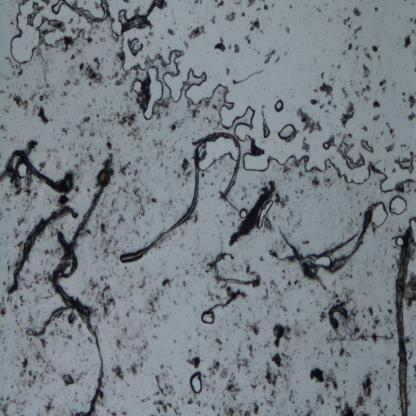Air bubble: (240, 135, 416, 195), (10, 0, 45, 66), (150, 48, 181, 106), (198, 135, 238, 172), (177, 66, 208, 104), (35, 17, 66, 51), (145, 66, 164, 121), (228, 106, 255, 134), (205, 84, 234, 108), (75, 0, 105, 19), (371, 200, 389, 229), (256, 200, 272, 229), (397, 150, 416, 170), (389, 195, 408, 215), (190, 371, 203, 395), (345, 156, 366, 170), (277, 124, 295, 140), (314, 255, 333, 269), (360, 138, 374, 154), (262, 115, 271, 139), (201, 311, 215, 325), (410, 216, 416, 248), (52, 1, 64, 16), (18, 162, 28, 179), (118, 8, 128, 24), (132, 78, 142, 93), (274, 99, 284, 112), (395, 235, 405, 248), (240, 208, 247, 220), (322, 141, 330, 150)
Background material: (228, 179, 277, 248), (56, 229, 79, 279), (326, 331, 396, 343), (296, 106, 324, 135), (79, 57, 105, 88), (309, 366, 339, 392), (129, 342, 150, 378), (154, 364, 176, 397), (142, 289, 165, 316), (0, 392, 27, 415), (131, 188, 147, 226), (347, 291, 361, 333), (101, 284, 116, 322), (339, 99, 357, 130), (270, 278, 286, 312), (96, 234, 116, 261), (25, 0, 44, 28), (272, 323, 293, 348), (360, 371, 376, 402), (328, 280, 347, 306), (338, 132, 356, 158), (334, 394, 355, 416), (82, 277, 100, 302), (402, 276, 416, 308), (140, 72, 151, 112), (226, 373, 242, 400), (96, 109, 118, 128), (234, 346, 250, 372), (364, 307, 380, 332), (270, 349, 291, 368), (178, 157, 191, 186), (152, 135, 166, 161), (248, 17, 267, 36), (265, 362, 278, 389), (118, 112, 138, 129), (128, 37, 144, 58), (198, 250, 214, 270), (104, 140, 115, 168), (44, 244, 63, 260), (33, 270, 52, 286), (276, 369, 290, 390), (206, 358, 220, 379), (188, 26, 206, 42), (13, 94, 29, 112), (73, 154, 86, 176), (111, 363, 126, 382), (292, 319, 307, 338), (10, 178, 24, 198), (152, 399, 172, 413), (18, 356, 29, 381), (374, 394, 387, 415), (354, 84, 372, 99), (384, 304, 396, 326), (186, 354, 201, 371), (128, 127, 143, 144), (186, 100, 200, 118), (266, 387, 278, 407), (275, 193, 291, 208), (62, 36, 75, 54), (34, 372, 47, 390), (73, 367, 86, 385), (96, 168, 109, 186), (24, 139, 38, 155), (115, 71, 129, 87), (169, 118, 185, 132), (235, 402, 252, 415), (213, 35, 226, 52), (37, 106, 48, 126), (285, 278, 303, 290), (288, 387, 298, 408), (220, 401, 235, 415), (246, 321, 261, 335), (385, 120, 396, 139), (7, 295, 18, 314), (354, 394, 367, 410), (120, 160, 131, 178), (19, 276, 33, 290), (66, 62, 80, 76), (43, 359, 56, 374), (320, 80, 332, 96), (44, 395, 54, 414), (0, 291, 7, 318), (62, 372, 74, 387), (313, 345, 325, 360), (25, 174, 33, 196), (110, 197, 119, 216), (265, 215, 275, 232), (301, 136, 311, 153), (12, 63, 24, 77), (264, 49, 276, 63), (118, 290, 132, 302), (340, 271, 354, 283), (114, 338, 126, 352), (201, 382, 216, 393), (306, 397, 315, 415), (250, 400, 260, 416), (363, 45, 373, 61), (339, 345, 352, 357), (161, 276, 174, 288), (121, 90, 134, 102), (34, 350, 45, 364), (324, 176, 335, 190), (28, 371, 37, 388), (403, 32, 412, 49), (407, 92, 416, 109), (98, 223, 108, 238), (76, 124, 86, 139), (361, 64, 370, 80), (353, 25, 362, 41), (226, 12, 238, 24), (249, 378, 261, 390), (345, 41, 355, 55), (42, 68, 49, 88), (220, 366, 230, 380), (316, 392, 326, 406), (343, 16, 353, 30), (260, 287, 270, 301), (68, 312, 79, 324), (147, 193, 158, 205), (106, 71, 119, 81), (396, 183, 406, 196), (118, 214, 127, 228), (40, 92, 51, 103), (81, 227, 92, 238), (137, 154, 147, 166), (379, 78, 387, 93), (184, 395, 194, 407), (386, 141, 396, 153), (172, 402, 182, 414), (14, 216, 26, 226), (80, 114, 90, 126), (352, 7, 362, 19), (247, 342, 254, 359), (341, 86, 349, 100), (312, 175, 320, 189), (86, 153, 96, 164), (9, 316, 20, 326), (196, 400, 207, 410), (128, 228, 140, 237), (38, 160, 47, 172), (139, 275, 146, 290), (27, 311, 34, 326), (282, 165, 292, 175), (309, 97, 319, 107), (27, 337, 36, 348), (74, 46, 83, 57), (319, 310, 327, 322), (373, 112, 381, 124), (117, 50, 125, 62), (72, 76, 80, 88), (297, 168, 305, 180), (246, 0, 255, 10), (181, 41, 190, 51), (215, 336, 224, 346), (214, 1, 224, 10), (40, 338, 48, 349), (362, 269, 373, 277), (95, 145, 103, 156), (86, 34, 94, 45), (244, 32, 252, 43), (2, 105, 10, 116), (404, 334, 412, 345), (230, 320, 241, 328), (30, 90, 37, 102), (111, 31, 118, 43), (193, 211, 199, 225), (16, 238, 23, 250), (407, 111, 416, 120), (141, 396, 150, 405), (86, 334, 94, 344), (373, 99, 381, 109), (166, 28, 176, 36), (19, 294, 25, 307), (401, 91, 407, 104), (361, 123, 368, 134), (121, 326, 128, 337), (145, 33, 151, 45), (99, 390, 105, 402), (258, 253, 265, 263), (184, 266, 191, 276), (385, 358, 392, 368), (89, 130, 96, 140), (0, 123, 7, 133), (61, 126, 68, 136), (264, 3, 270, 14), (234, 44, 240, 55), (86, 141, 92, 152), (32, 106, 37, 119), (99, 275, 109, 281), (285, 25, 291, 35), (186, 346, 192, 356), (5, 56, 12, 64), (209, 404, 216, 412), (172, 298, 179, 306), (181, 280, 188, 288), (61, 90, 68, 98), (275, 54, 281, 63), (68, 16, 74, 25), (64, 79, 70, 88), (263, 339, 269, 348), (238, 310, 243, 320), (342, 378, 347, 388), (225, 66, 230, 76), (371, 46, 379, 52), (150, 334, 158, 340), (334, 362, 340, 370), (70, 53, 76, 61), (374, 4, 380, 12), (329, 346, 334, 355), (194, 0, 203, 5), (44, 0, 51, 6), (0, 88, 5, 96), (327, 98, 332, 106), (387, 384, 392, 392), (121, 410, 127, 416), (53, 138, 62, 142), (133, 167, 137, 176), (10, 136, 16, 142), (100, 36, 105, 43), (110, 411, 117, 416), (266, 308, 271, 315), (126, 310, 130, 318), (4, 344, 8, 352), (160, 161, 164, 169), (201, 171, 206, 177), (149, 30, 154, 36), (23, 112, 28, 118), (8, 93, 12, 100), (218, 346, 222, 353), (169, 198, 173, 205), (297, 308, 302, 313), (24, 84, 29, 89), (102, 99, 107, 104), (161, 211, 165, 217), (242, 12, 246, 18), (161, 218, 165, 223), (49, 117, 53, 122), (75, 153, 79, 158), (73, 28, 76, 34), (21, 326, 24, 332), (7, 84, 10, 90), (216, 412, 220, 416), (138, 310, 142, 314), (174, 170, 178, 174), (93, 98, 97, 102), (154, 325, 158, 328)
Cellulose filter fibre: (52, 166, 115, 416), (7, 207, 78, 292), (394, 228, 416, 416), (324, 203, 374, 275), (278, 226, 327, 291), (272, 227, 358, 263), (6, 148, 72, 193), (213, 252, 261, 286), (120, 2, 166, 34), (25, 307, 71, 338), (210, 291, 247, 312), (232, 68, 265, 86), (328, 304, 348, 329)
Microfibre: (119, 132, 240, 264)
